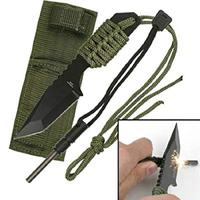knife: (9, 2, 128, 146), (145, 118, 191, 200)
